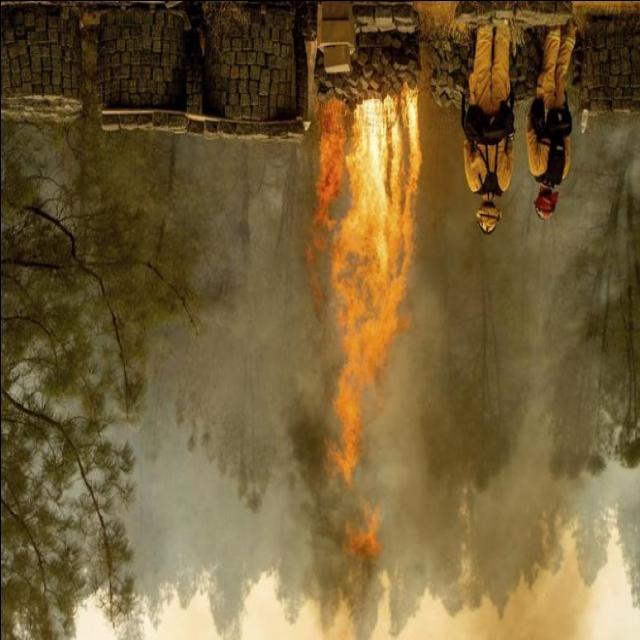Fire: (298, 79, 428, 501)
